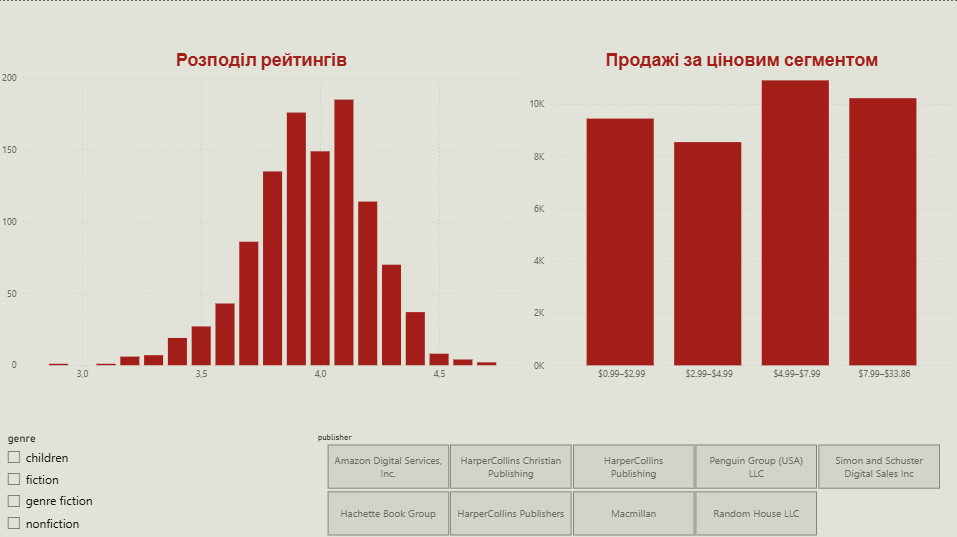

This screenshot's page, from the dashboard's own definition file:
{"tool":"powerbi","page":{"name":"Price and rating","canvas":[1280,720],"ordinal":1},"visuals":[{"type":"slicer","fields":{"Values":["Books_Data_Clean.genre"]},"box":[0,570,414,150],"z":0},{"type":"slicer","fields":{"Values":["Books_Data_Clean.publisher"]},"box":[413.9,570.3,866.1,149.3],"z":1000},{"type":"clusteredColumnChart","title":"Розподіл рейтингів","fields":{"Y":["CountNonNull(Books_Data_Clean.book_name)"],"Category":["Books_Data_Clean.book_average_rating (bins)"]},"box":[0,65.4,702.6,450.8],"z":2000},{"type":"clusteredColumnChart","title":"Продажі за ціновим сегментом","fields":{"Category":["Books_Data_Clean.price_segment"],"Y":["Avg(Books_Data_Clean.units_sold)"]},"box":[703,65,577,451],"z":3000}]}

Visuals, with their boxes in screenshot pixels (x1, y1, x2, y2), scaled from the page's 1280x720 canvas onto the 957x537 screenshot:
slicer - Books_Data_Clean.genre: [0, 425, 310, 536]
slicer - Books_Data_Clean.publisher: [309, 425, 956, 536]
"Розподіл рейтингів" clusteredColumnChart: [0, 49, 525, 385]
"Продажі за ціновим сегментом" clusteredColumnChart: [526, 48, 956, 385]
